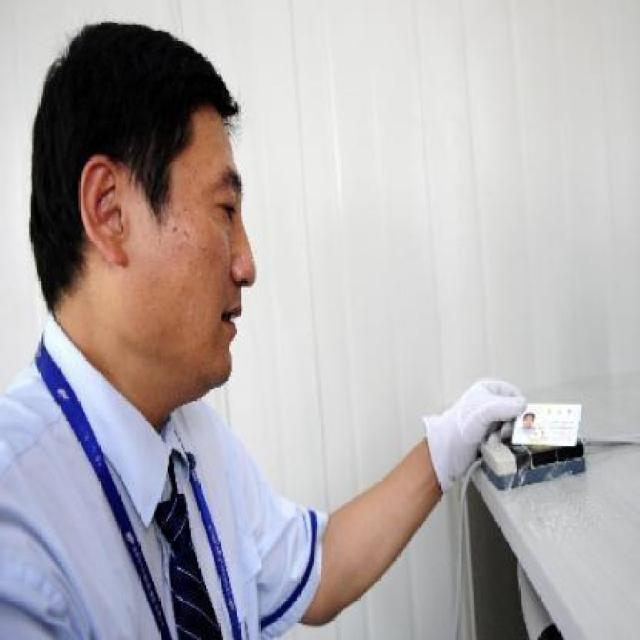face_nomask: (120, 163, 271, 391)
hand_glove: (434, 377, 523, 492)
head_nohelmet: (20, 20, 260, 166)
person: (17, 17, 411, 640)
